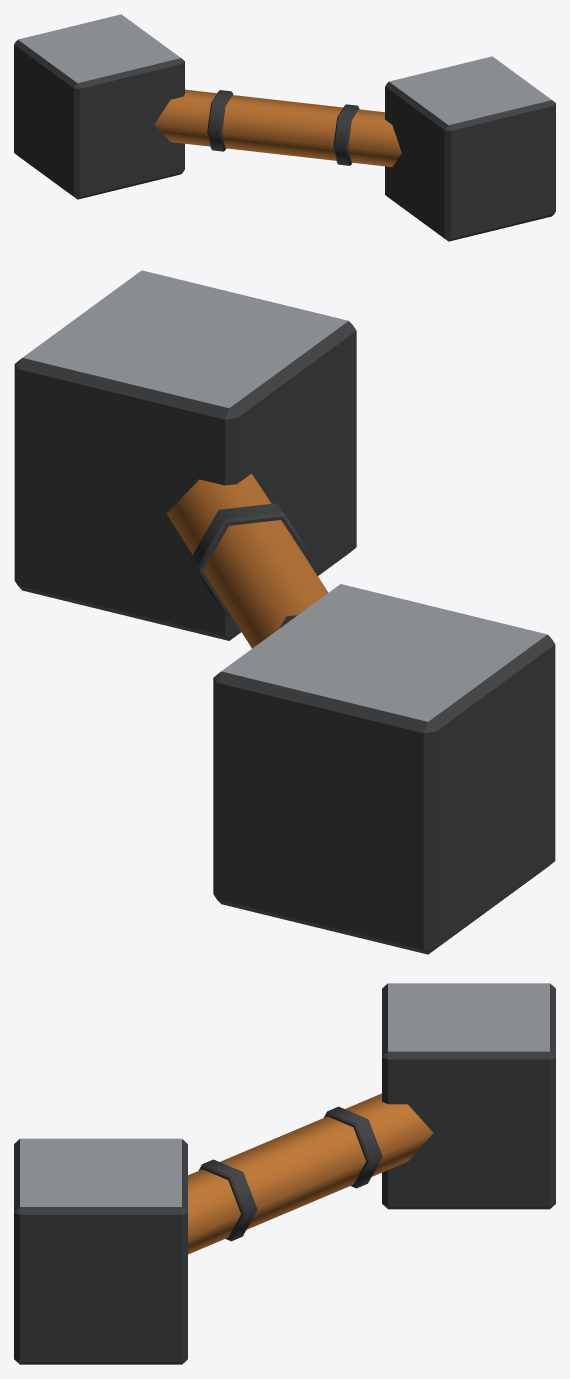
The model's file is R4C_STRUT_DIAG_2D_LOD1.fbx.
3 views of the same model, one above another, from view 1: azimuth 30°, elevation 25°; view 2: azimuth 150°, elevation 25°; view 3: azimuth 270°, elevation 25° (orthographic). The views are drawn at different scales.
Parts seen in each view (by area): view 1: R4C_STRUT_DIAG_2D_LOD1; view 2: R4C_STRUT_DIAG_2D_LOD1; view 3: R4C_STRUT_DIAG_2D_LOD1.
Boxes of the visible parts, x1,y1,x2,y2 form: R4C_STRUT_DIAG_2D_LOD1: (14, 14, 555, 241); R4C_STRUT_DIAG_2D_LOD1: (14, 270, 555, 954); R4C_STRUT_DIAG_2D_LOD1: (14, 983, 555, 1364).
Bounding box in the file's own units: 1.62 × 0.52 × 1.62.
